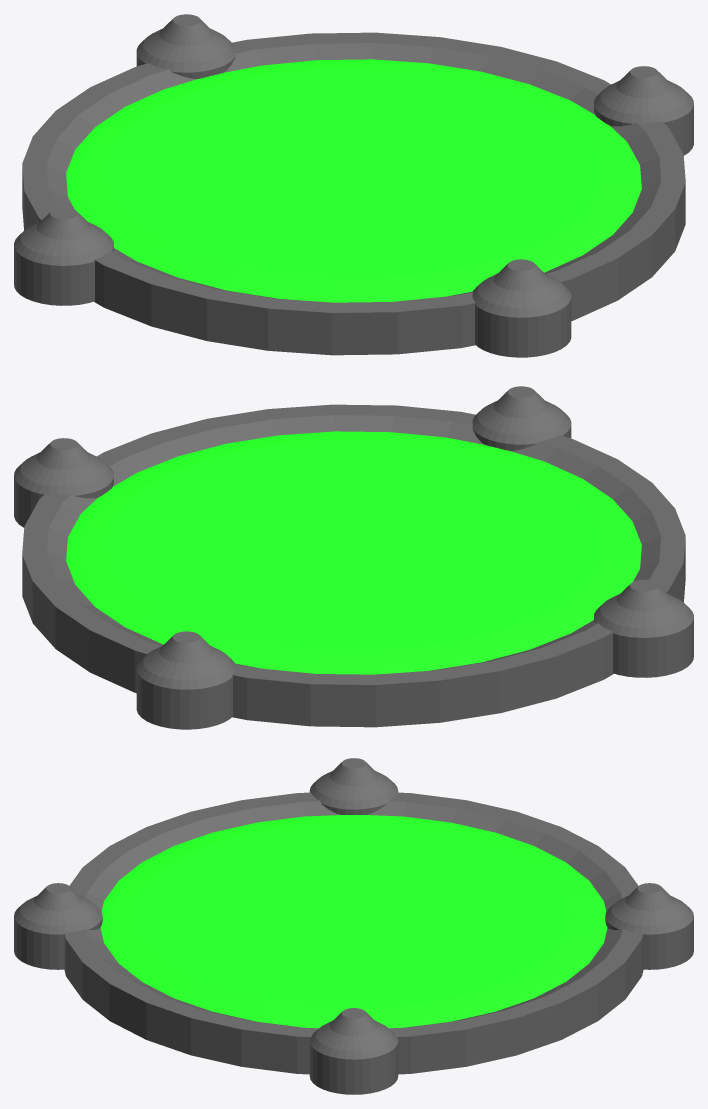
File: scanner.fbx
3 views of the same model, one above another, from view 1: azimuth 30°, elevation 25°; view 2: azimuth 150°, elevation 25°; view 3: azimuth 270°, elevation 25° (orthographic). The views are drawn at different scales.
Visible parts, largest first — view 1: MedScanner; view 2: MedScanner; view 3: MedScanner.
Boxes of the visible parts, x1,y1,x2,y2 form: MedScanner: (14, 14, 693, 357); MedScanner: (14, 386, 693, 729); MedScanner: (14, 758, 693, 1094).
Bounding box in the file's own units: 250 × 25.93 × 250.
